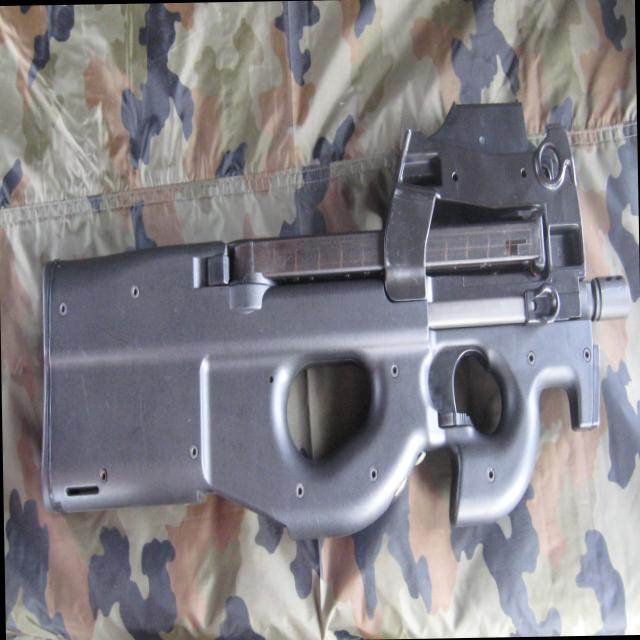Gun: (6, 71, 640, 552)
